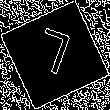L_S: (32, 26, 78, 84)
